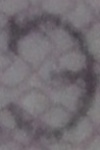YE_RUS: (0, 0, 99, 149)
